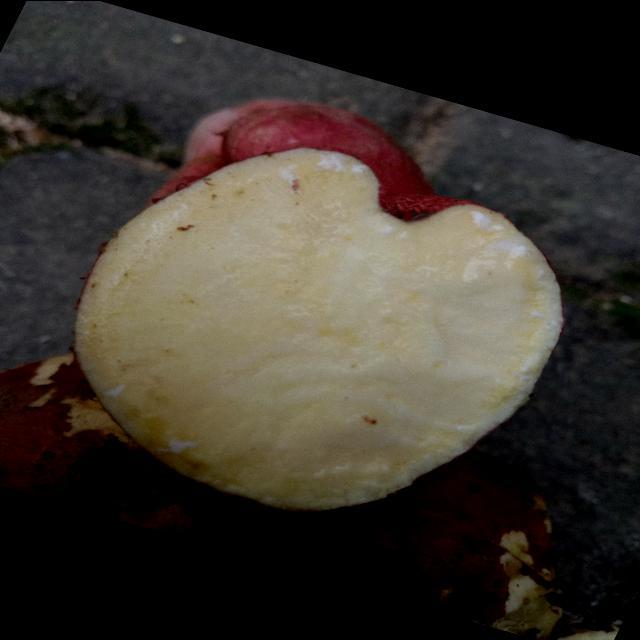Healthy Sweet Potato: (75, 148, 563, 509)
